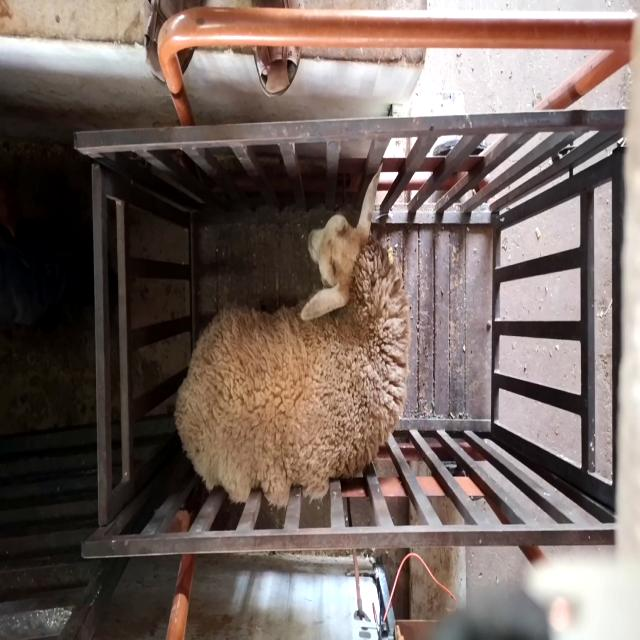sheep: (173, 167, 410, 508)
